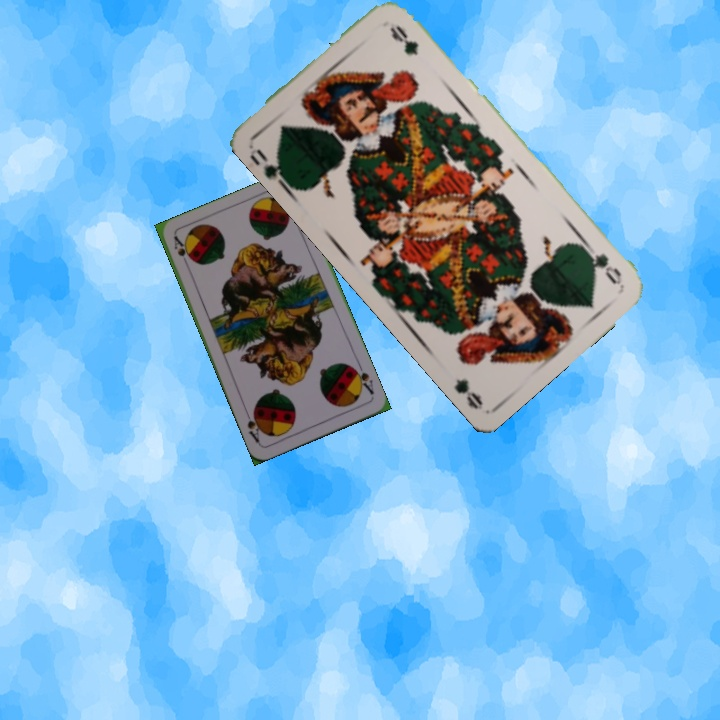GO: (575, 238, 625, 288), (252, 145, 293, 193)
SA: (348, 360, 376, 397), (169, 232, 193, 262)
